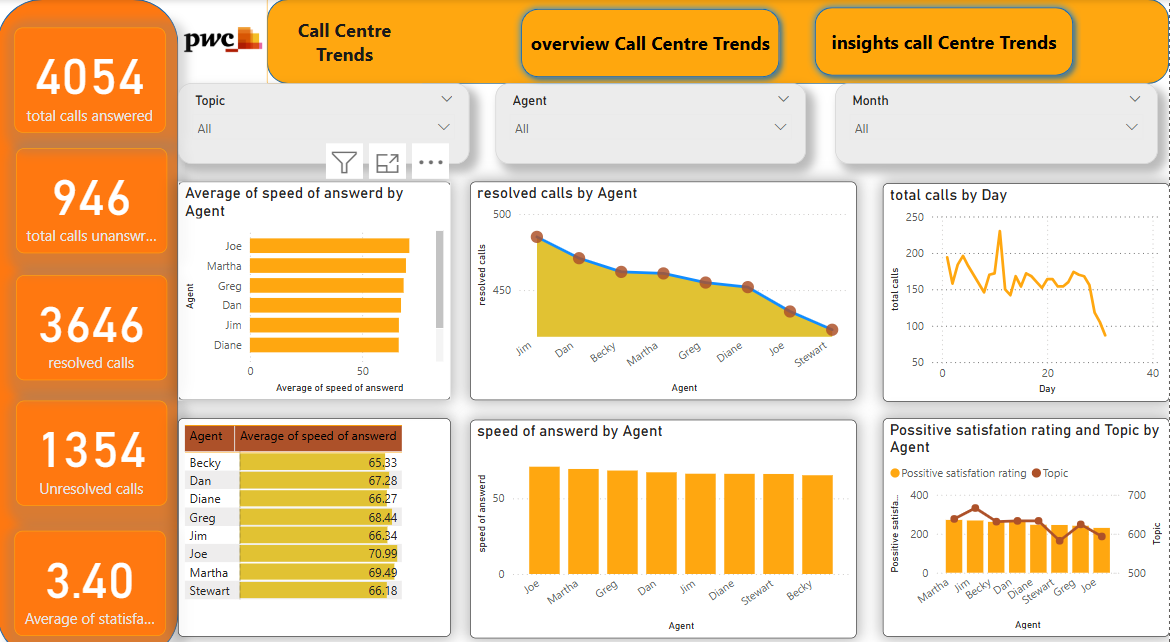

What the dashboard file says about the page in this screenshot:
{"tool":"powerbi","page":{"name":"Agend_performances","canvas":[1280,720],"ordinal":1},"visuals":[{"type":"shape","box":[0,0,198,720.5],"z":0},{"type":"shape","box":[294.4,0,985.2,92.6],"z":1000},{"type":"image","box":[198,2.1,96.9,86.4],"z":2000},{"type":"shape","box":[294.4,0,170.4,92.6],"z":3000},{"type":"card","fields":{"Values":["Measure_Table.total calls answered"]},"box":[18.5,31.5,164.8,114.8],"z":4000},{"type":"card","fields":{"Values":["Measure_Table.total calls unanswred"]},"box":[20.4,163,164.8,114.8],"z":5000},{"type":"card","fields":{"Values":["Measure_Table.resolved calls"]},"box":[20.4,301.9,164.8,114.8],"z":6000},{"type":"card","fields":{"Values":["Measure_Table.Unresolved calls"]},"box":[20.4,438.9,164.8,114.8],"z":7000},{"type":"card","fields":{"Values":["Measure_Table.Average of statisfaction"]},"box":[18.5,581.5,164.8,114.8],"z":8000},{"type":"slicer","fields":{"Values":["Call centre data.Topic"]},"box":[198,92.7,318.1,88.5],"z":9000},{"type":"slicer","fields":{"Values":["Call centre data.Agent"]},"box":[543.6,92.7,339.2,88.5],"z":10000},{"type":"slicer","fields":{"Values":["Call centre data.Month"]},"box":[914.4,92.7,351.8,88.5],"z":11000},{"type":"pivotTable","fields":{"Rows":["Call centre data.Agent"],"Values":["Measure_Table.Average of speed of answerd"]},"box":[198.1,457.4,298.1,238.9],"z":12000},{"type":"barChart","fields":{"Category":["Call centre data.Agent"],"Y":["Measure_Table.Average of speed of answerd"]},"box":[198.1,200,298.1,238.9],"z":13000},{"type":"stackedAreaChart","fields":{"Category":["Call centre data.Agent"],"Y":["Measure_Table.resolved calls"]},"box":[516.7,200,422.2,238.9],"z":14000},{"type":"columnChart","fields":{"Category":["Call centre data.Agent"],"Y":["Measure_Table.Average of speed of answerd"]},"box":[516.7,459.3,422.2,238.9],"z":15000},{"type":"lineChart","fields":{"Category":["Call centre data.Date.Variation.Date Hierarchy.Day"],"Y":["Measure_Table.total calls"]},"box":[966.7,201.9,313,238.9],"z":16000},{"type":"lineClusteredColumnComboChart","fields":{"Y2":["Call centre data.Topic"],"Category":["Call centre data.Agent"],"Y":["Measure_Table.Possitive satisfation rating"]},"box":[966.7,457.4,313,238.9],"z":17000},{"type":"shape","box":[563,1.9,300,92.6],"z":18000},{"type":"shape","box":[883.3,0,300,92.6],"z":18001}]}

Visuals, with their boxes in screenshot pixels (x1, y1, x2, y2), scaled from the page's 1280x720 canvas onto the 1170x642 screenshot:
shape: left=0, top=0, right=181, bottom=641
shape: left=269, top=0, right=1169, bottom=83
image: left=181, top=2, right=270, bottom=79
shape: left=269, top=0, right=425, bottom=83
card - Measure_Table.total calls answered: left=17, top=28, right=168, bottom=130
card - Measure_Table.total calls unanswred: left=19, top=145, right=169, bottom=248
card - Measure_Table.resolved calls: left=19, top=269, right=169, bottom=372
card - Measure_Table.Unresolved calls: left=19, top=391, right=169, bottom=494
card - Measure_Table.Average of statisfaction: left=17, top=519, right=168, bottom=621
slicer - Call centre data.Topic: left=181, top=83, right=472, bottom=162
slicer - Call centre data.Agent: left=497, top=83, right=807, bottom=162
slicer - Call centre data.Month: left=836, top=83, right=1157, bottom=162
pivotTable - Call centre data.Agent x Measure_Table.Average of speed of answerd: left=181, top=408, right=454, bottom=621
barChart - Call centre data.Agent x Measure_Table.Average of speed of answerd: left=181, top=178, right=454, bottom=391
stackedAreaChart - Call centre data.Agent x Measure_Table.resolved calls: left=472, top=178, right=858, bottom=391
columnChart - Call centre data.Agent x Measure_Table.Average of speed of answerd: left=472, top=410, right=858, bottom=623
lineChart - Call centre data.Date.Variation.Date Hierarchy.Day x Measure_Table.total calls: left=884, top=180, right=1169, bottom=393
lineClusteredColumnComboChart - Call centre data.Topic x Call centre data.Agent: left=884, top=408, right=1169, bottom=621
shape: left=515, top=2, right=789, bottom=84
shape: left=807, top=0, right=1082, bottom=83
